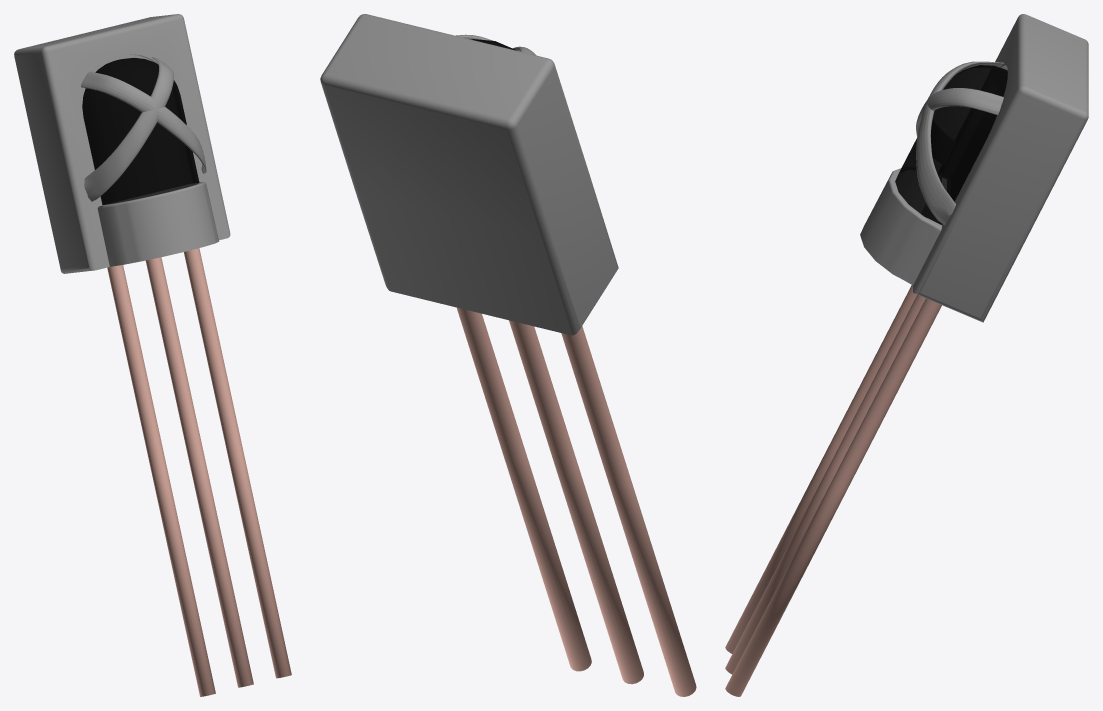
File: 34. IRRS.gltf
3 views of the same model, side by side, from view 1: azimuth 30°, elevation 25°; view 2: azimuth 150°, elevation 25°; view 3: azimuth 270°, elevation 25° (orthographic). The views are drawn at different scales.
Parts seen in each view (by area): view 1: X.001; view 2: X.001; view 3: X.001.
Part boxes in pixels (x1,y1,x2,y2): X.001: [14, 14, 291, 696]; X.001: [320, 14, 696, 696]; X.001: [725, 14, 1088, 696].
Size of the model in its own units: 0.0096 by 0.0364 by 0.0192.
